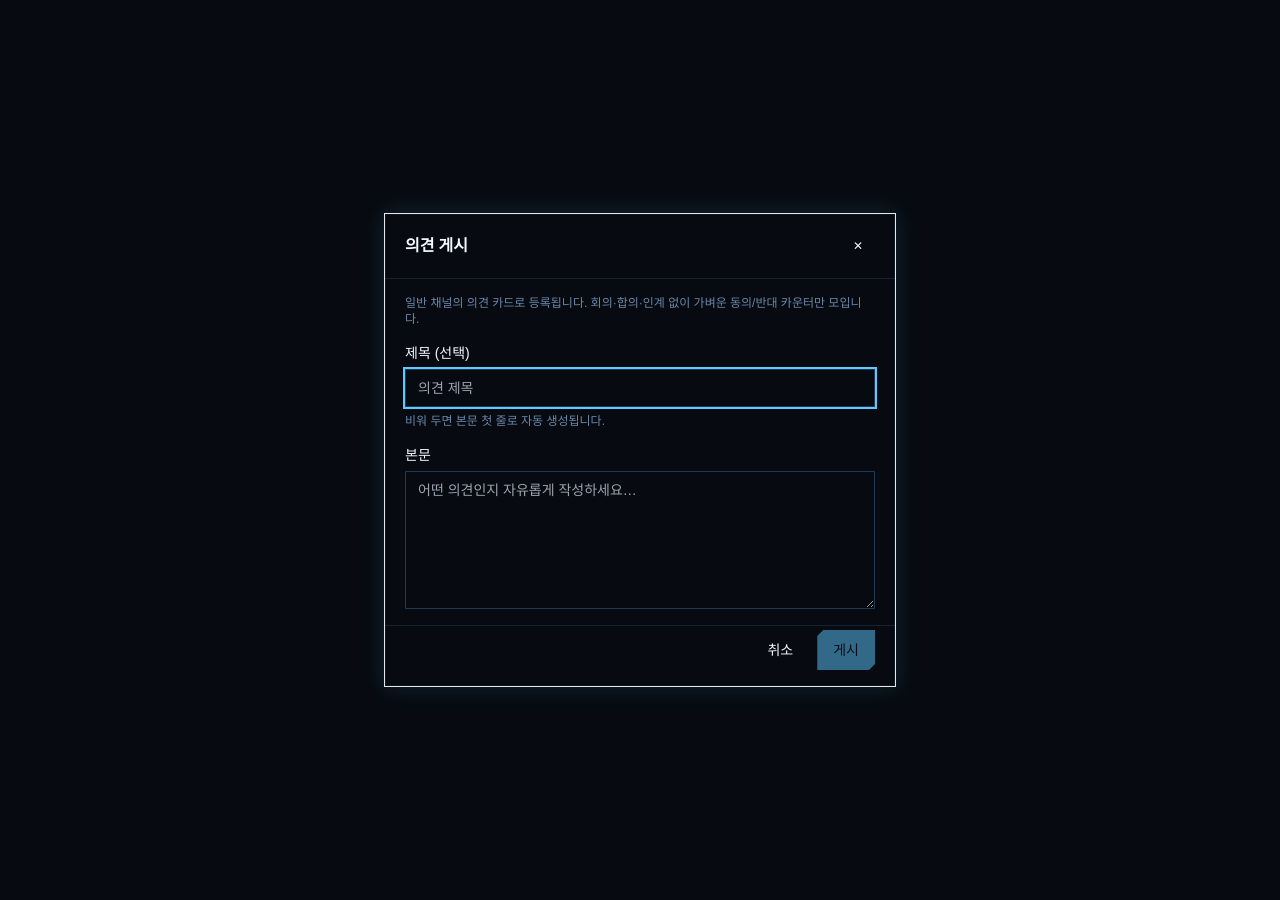
Test: PostOpinionModal — submit gating › 본문 ≥ 1 char (trim 후) → submit enabled
Type "본문 있음" into the text box with test id "post-opinion-content" at (640, 540), box [405, 471, 875, 609]
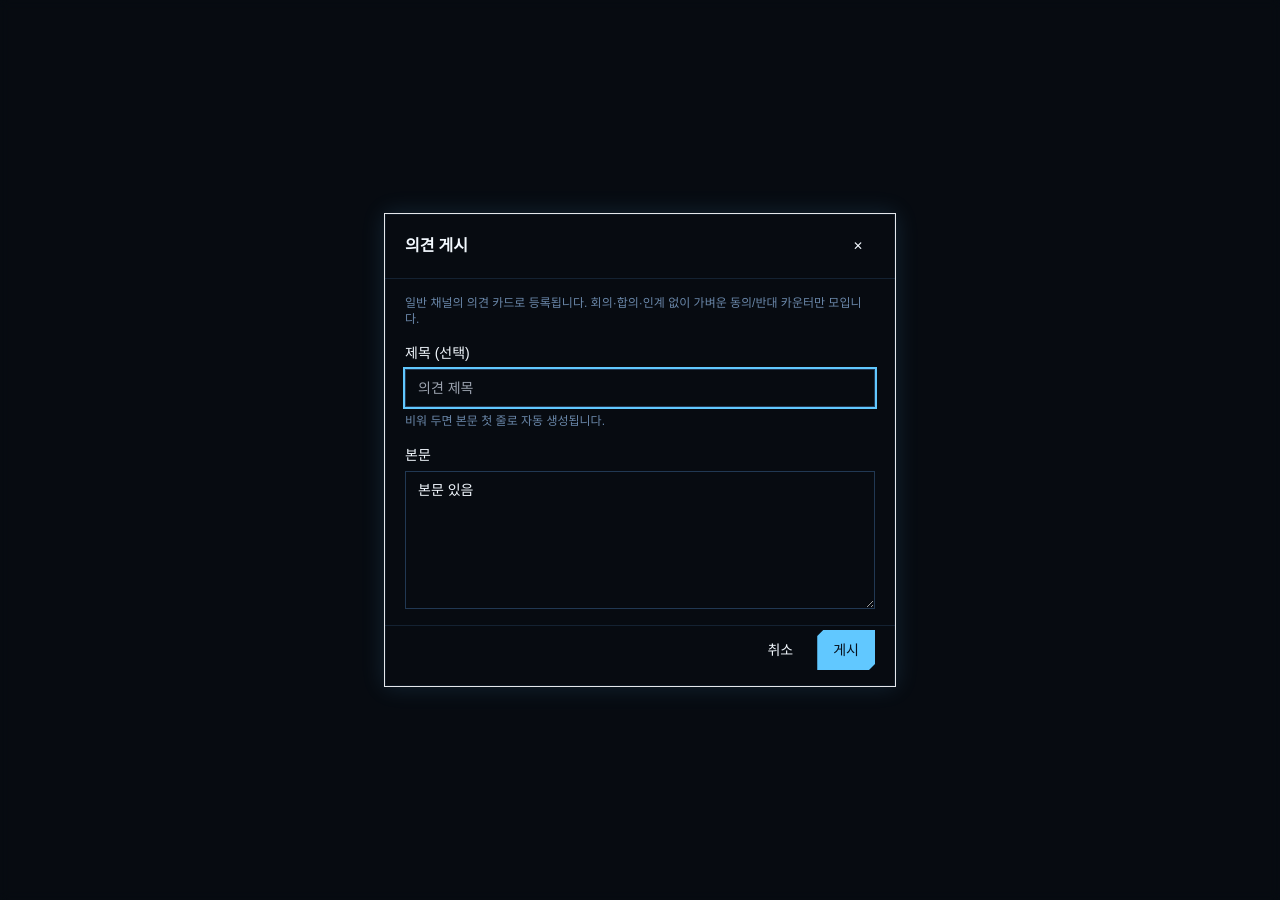
Expected: the button with test id "post-opinion-submit" is enabled, [817, 630, 875, 670]
